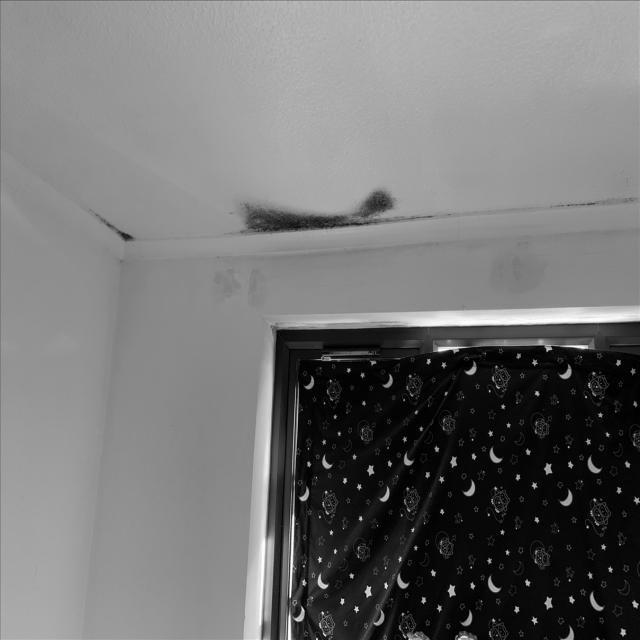stain marks: (210, 182, 444, 238), (478, 250, 560, 300), (210, 258, 280, 314), (539, 177, 640, 215), (81, 202, 145, 246)
